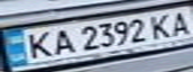2: (75, 22, 100, 52), (127, 16, 151, 44)
3: (97, 20, 118, 48)
9: (112, 18, 133, 47)
A: (48, 26, 78, 56), (166, 8, 193, 37)
K: (18, 29, 57, 61), (145, 11, 178, 40)
